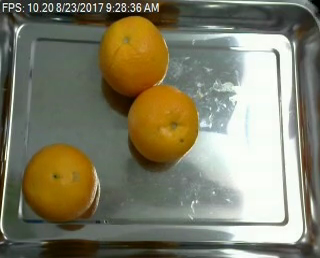Orange: (22, 142, 98, 221), (127, 84, 200, 163), (97, 14, 168, 94)
